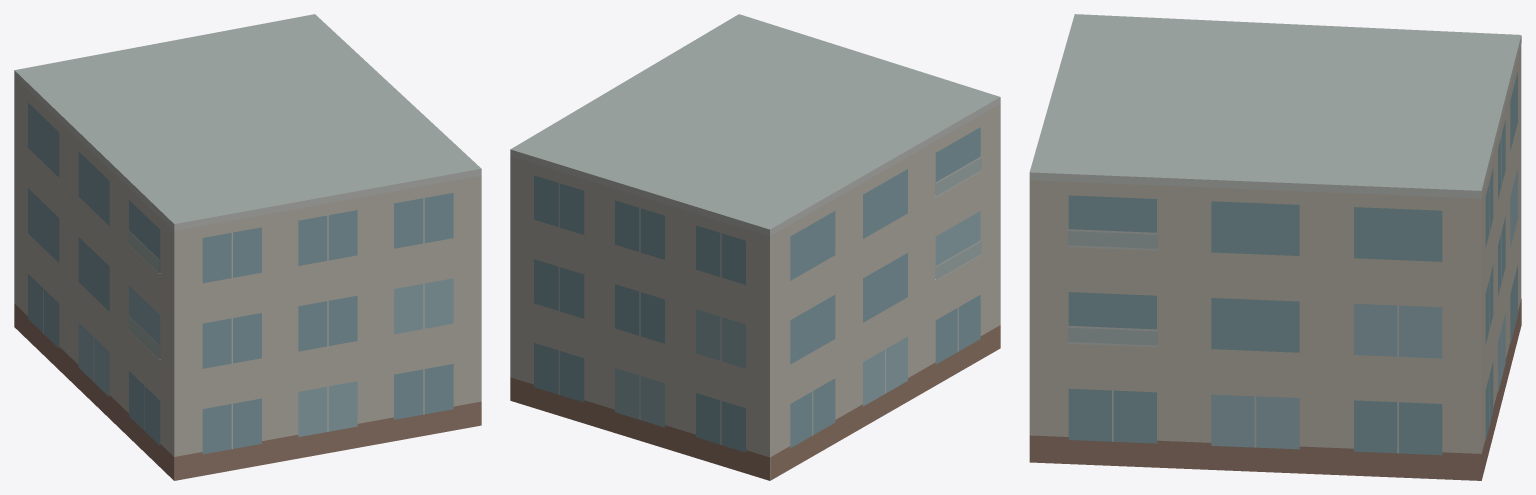
Rendered from survey-upis-32873027.glb.
The picture shows the model from 3 angles, left to right: view 1: azimuth 30°, elevation 25°; view 2: azimuth 150°, elevation 25°; view 3: azimuth 270°, elevation 25°; orthographic projection. The views are drawn at different scales.
Parts seen in each view (by area): view 1: survey-upis-32873027.tmp; view 2: survey-upis-32873027.tmp; view 3: survey-upis-32873027.tmp.
Part boxes in pixels (x1,y1,x2,y2): survey-upis-32873027.tmp: (14, 14, 481, 480); survey-upis-32873027.tmp: (510, 14, 1000, 480); survey-upis-32873027.tmp: (1029, 14, 1521, 480).
Bounding box in the file's own units: 11.98 × 9.15 × 14.08.
